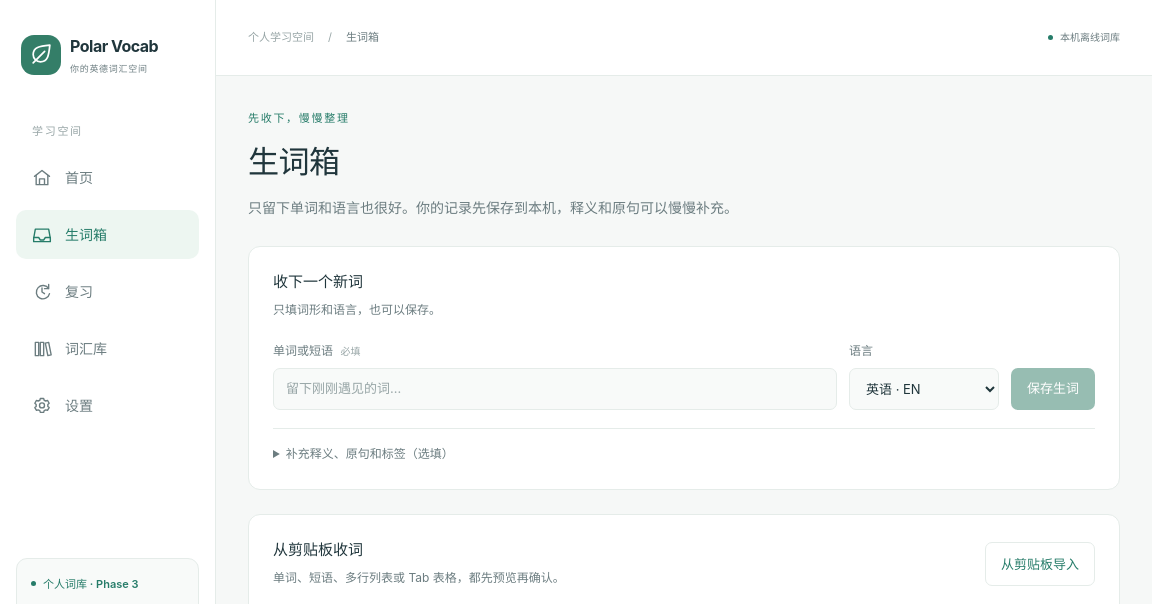
Test: 本机词库交互 › 存储失败后保留输入且不显示保存成功
Step 1. Type "retain" into the field labelled "单词或短语" → (555, 389), box [273,368,837,410]
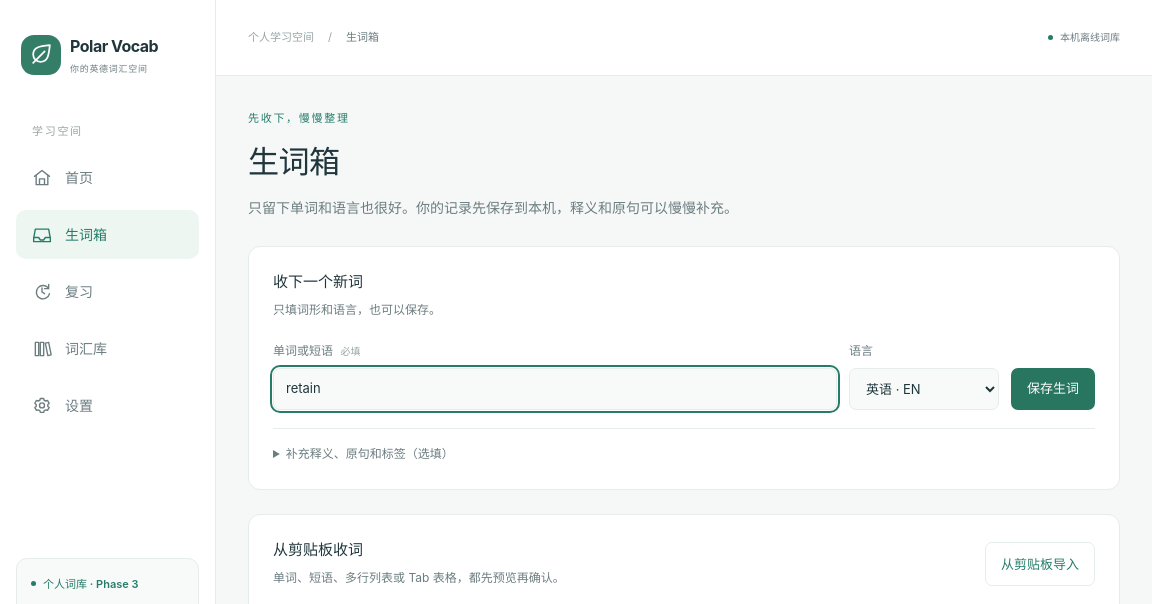
Step 2. Click the button "保存生词" → (1053, 389), box [1011,368,1095,410]
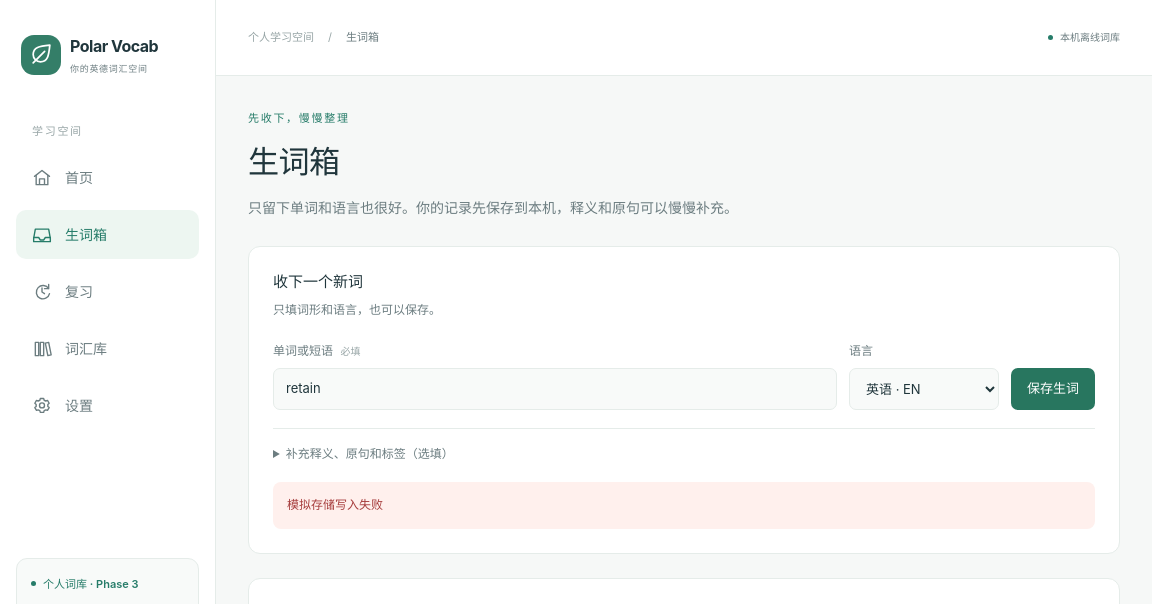
Now the message reads "模拟存储写入失败", box [287,497,383,512]
